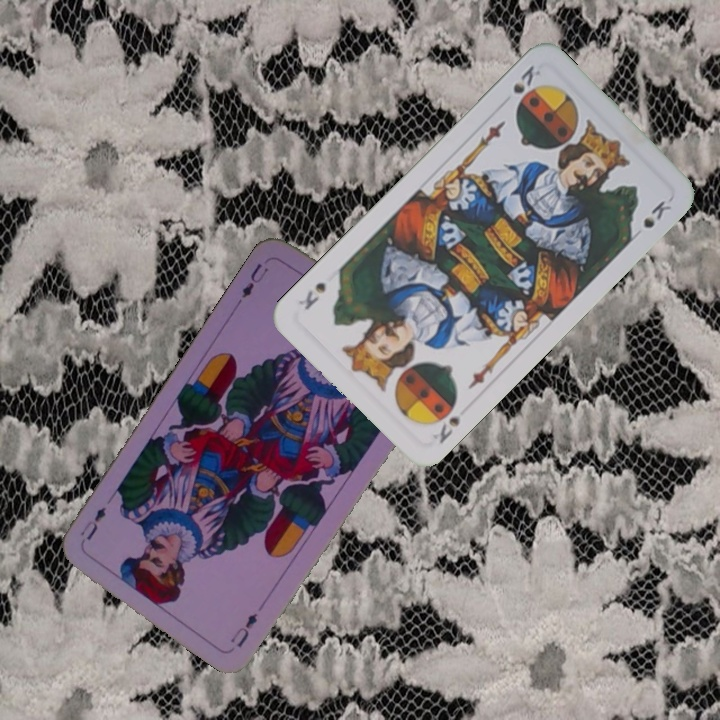EU: (237, 259, 271, 301), (226, 609, 260, 650)
SK: (428, 400, 473, 447), (509, 61, 537, 96)
